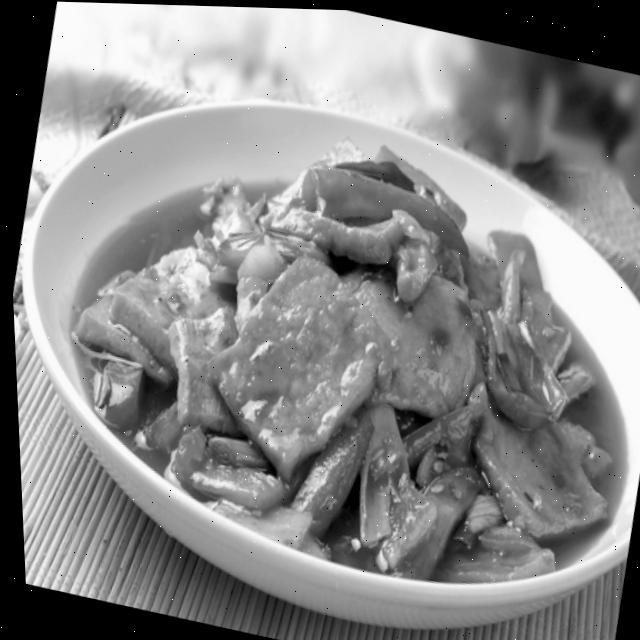豆腐料理: (48, 88, 640, 616)
